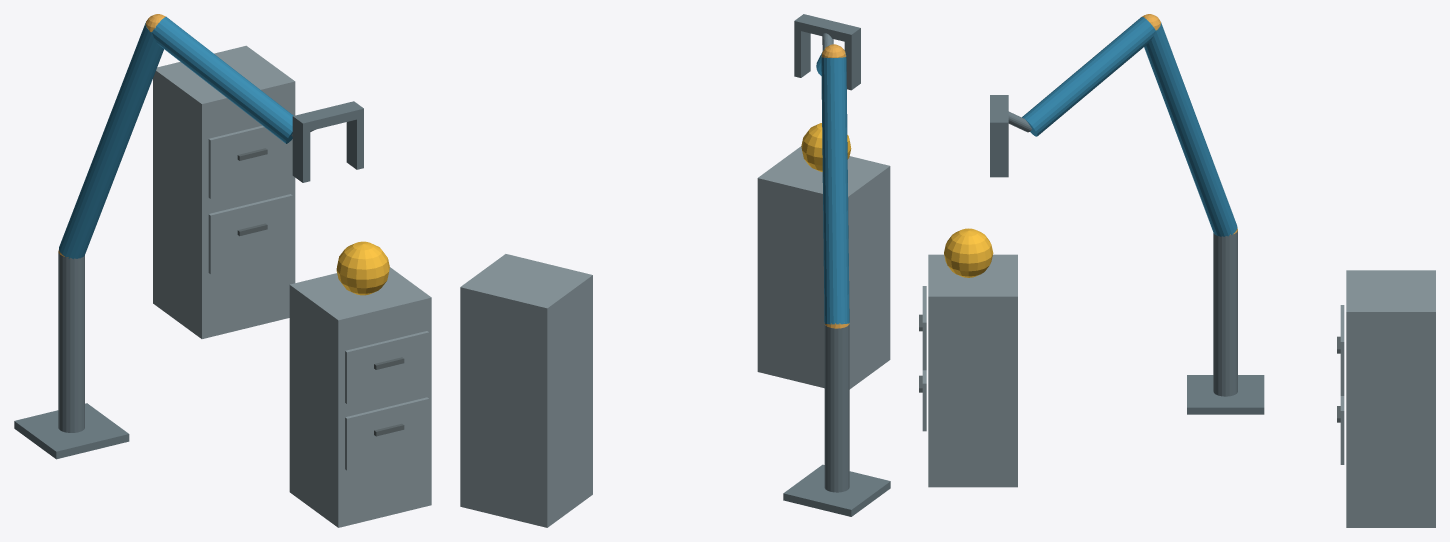
The picture shows the model from 3 angles, left to right: view 1: azimuth 30°, elevation 25°; view 2: azimuth 150°, elevation 25°; view 3: azimuth 270°, elevation 25°; orthographic projection. The views are drawn at different scales.
Visible parts, largest first — view 1: cabinet_2 body, cabinet_1 body, moving link 1, cabinet_2 drawer front, fixed post, moving link 2, cabinet_2 drawer front.001, cabinet_1 drawer front, cabinet_1 drawer front.001, pedestal, ball ball_1, gripper bridge (+2 smaller); view 2: cabinet_2 body, cabinet_1 body, moving link 1, fixed post, pedestal, gripper bridge, ball ball_1, gripper finger 1, gripper finger -1; view 3: cabinet_2 body, cabinet_1 body, moving link 1, fixed post, moving link 2, pedestal, ball ball_1, gripper finger 1, gripper bridge.
Boxes of the visible parts, x1,y1,x2,y2 form: cabinet_2 body: [153, 45, 295, 338]; cabinet_1 body: [289, 267, 431, 527]; moving link 1: [59, 22, 163, 259]; cabinet_2 drawer front: [208, 194, 292, 274]; fixed post: [58, 251, 84, 432]; moving link 2: [152, 16, 293, 143]; cabinet_2 drawer front.001: [208, 125, 292, 198]; cabinet_1 drawer front: [345, 397, 429, 470]; cabinet_1 drawer front.001: [345, 331, 429, 404]; pedestal: [14, 403, 129, 459]; ball ball_1: [336, 241, 389, 295]; gripper bridge: [292, 101, 363, 132]; cabinet_2 body: [460, 254, 592, 527]; cabinet_1 body: [757, 146, 890, 389]; moving link 1: [821, 57, 849, 324]; fixed post: [824, 324, 849, 492]; pedestal: [783, 464, 890, 516]; gripper bridge: [794, 14, 860, 43]; ball ball_1: [801, 123, 851, 171]; gripper finger 1: [794, 29, 810, 77]; gripper finger -1: [844, 37, 860, 90]; cabinet_2 body: [1346, 270, 1435, 527]; cabinet_1 body: [928, 254, 1017, 487]; moving link 1: [1144, 22, 1237, 236]; fixed post: [1213, 231, 1237, 396]; moving link 2: [1022, 17, 1155, 136]; pedestal: [1187, 375, 1264, 414]; ball ball_1: [944, 228, 993, 277]; gripper finger 1: [990, 131, 1008, 177]; gripper bridge: [990, 95, 1008, 130].
Bounding box in the file's own units: 1.12 × 1.44 × 1.67.
